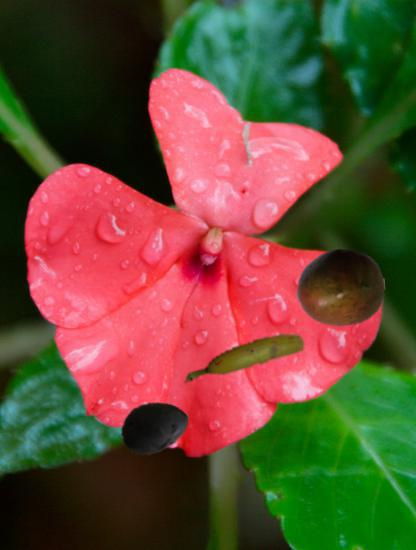Banana: (178, 292, 308, 422)
Mango: (296, 243, 386, 333)
Plum: (121, 392, 190, 461)
